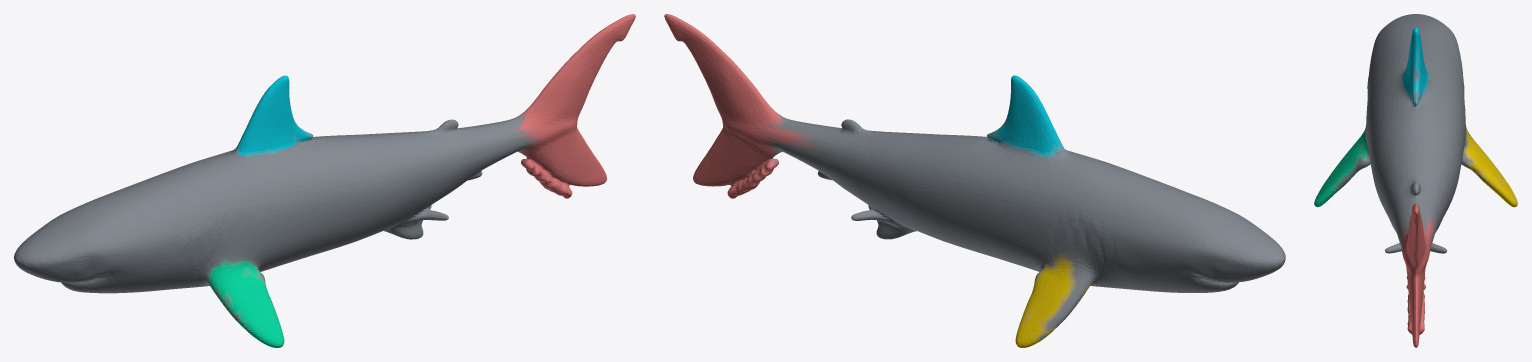
The model's file is shark_segmented.glb.
3 views of the same model, side by side, from view 1: azimuth 30°, elevation 25°; view 2: azimuth 150°, elevation 25°; view 3: azimuth 270°, elevation 25° (orthographic). The views are drawn at different scales.
Parts seen in each view (by area): view 1: world; view 2: world; view 3: world.
Boxes of the visible parts, box(x1,y1,x2,y2) form: world: box(14, 14, 635, 347); world: box(664, 14, 1285, 347); world: box(1314, 14, 1517, 347).
Size of the model in its own units: 1.83 by 0.6185 by 0.5568.
